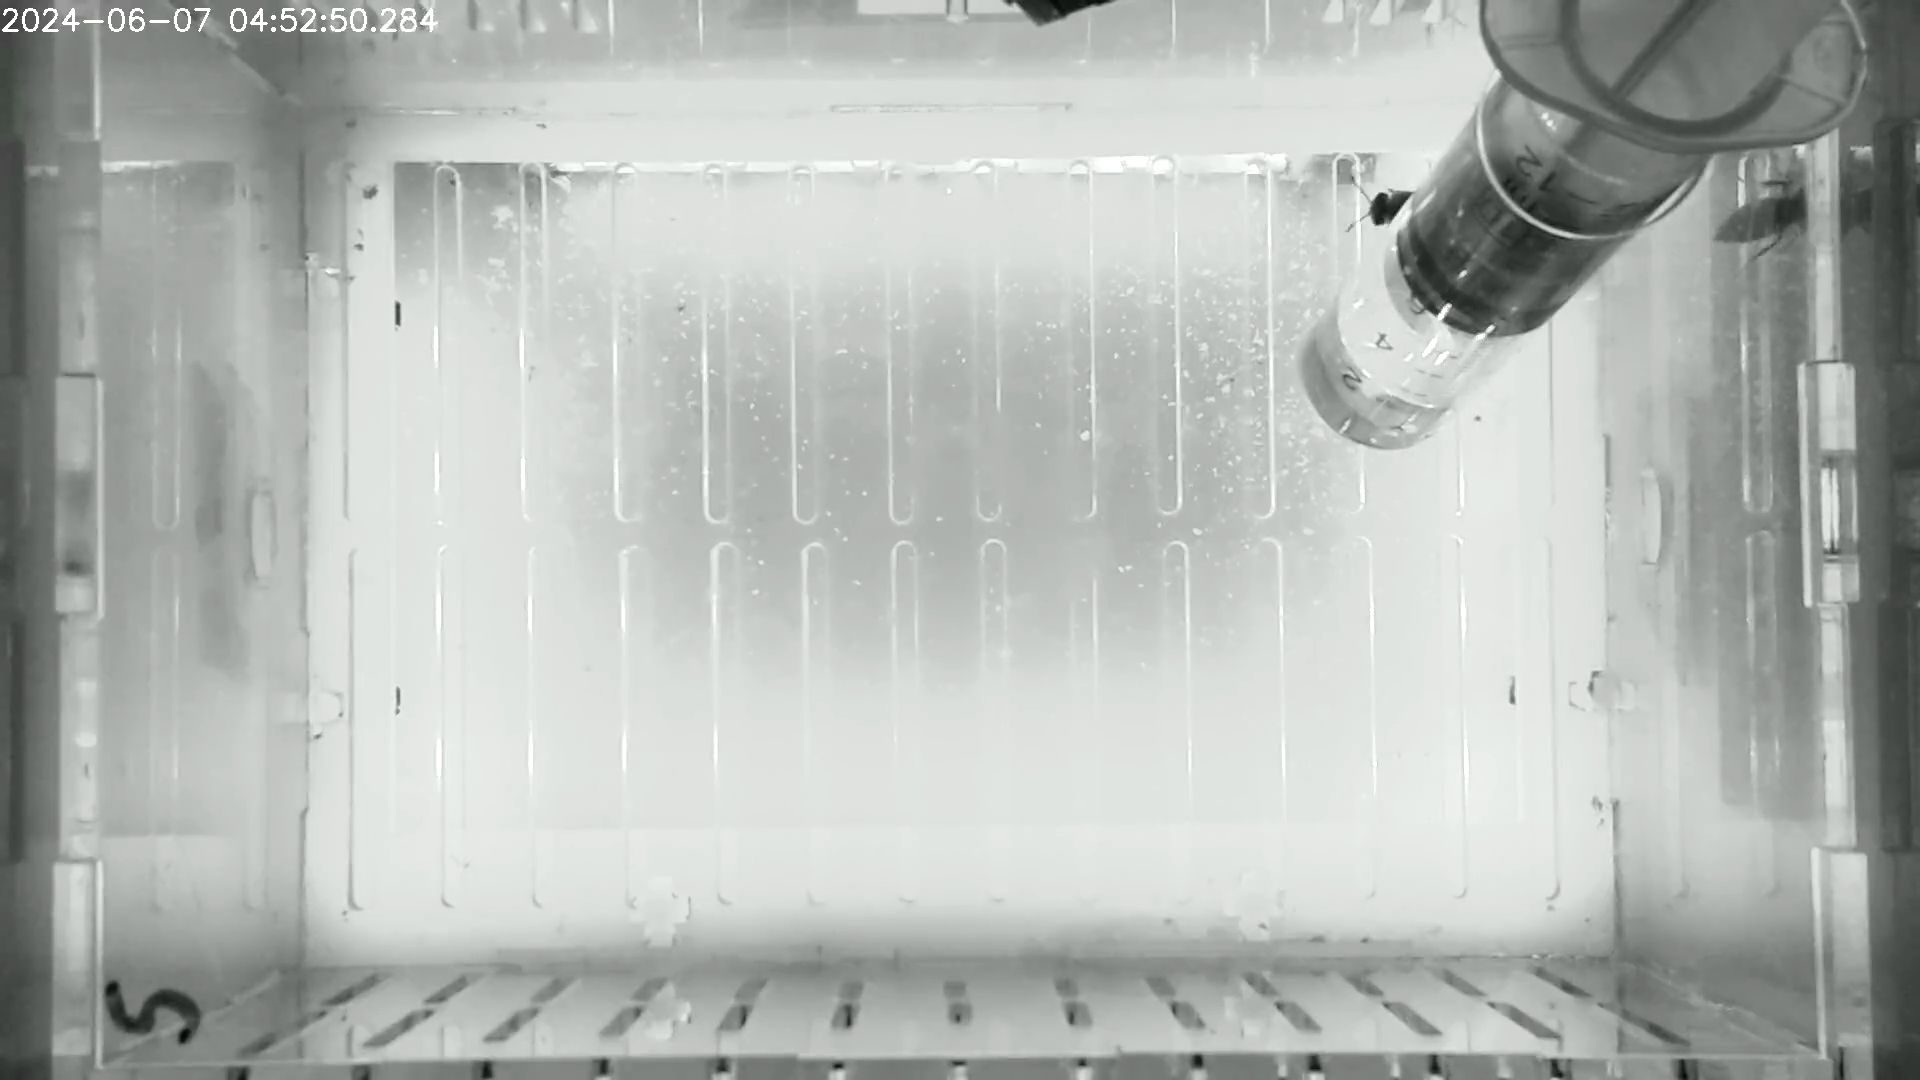bee: (1336, 167, 1419, 236)
feeder: (1288, 105, 1633, 461)
